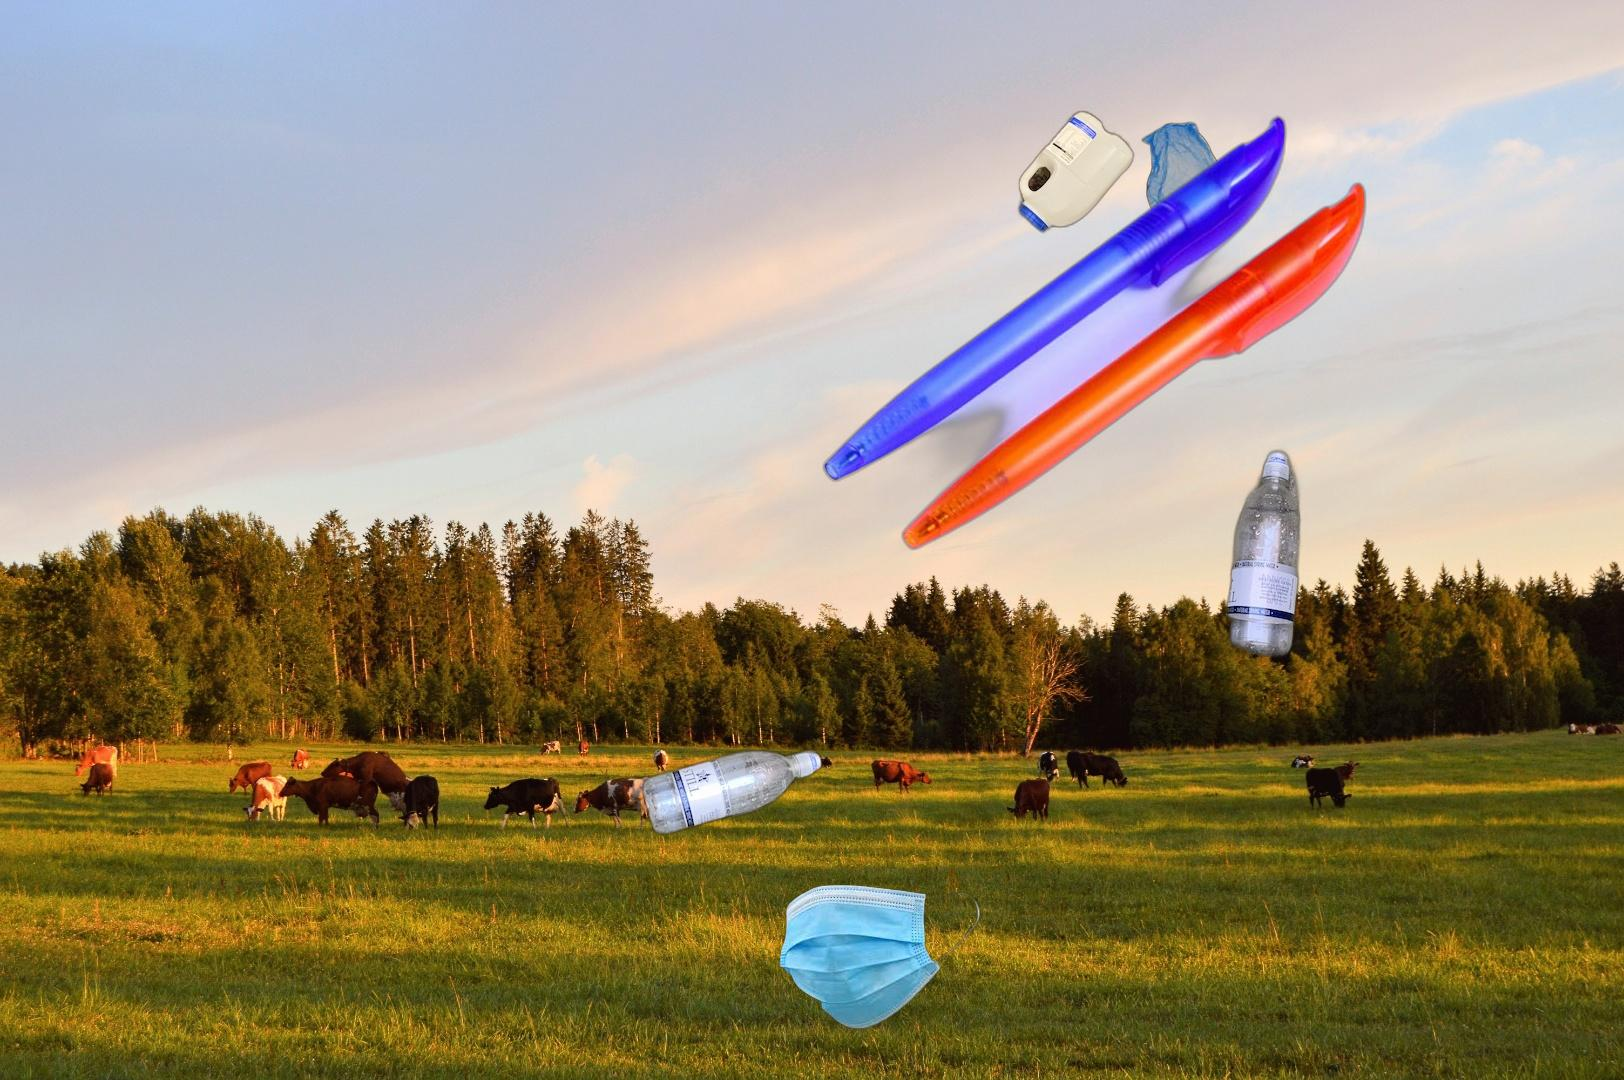penholder: (817, 111, 1370, 556)
plastic-bag: (1141, 119, 1226, 236)
plastic-bottles: (461, 744, 973, 1080), (1014, 105, 1267, 372), (1220, 445, 1305, 664), (37, 1078, 420, 1080)
trash: (777, 882, 983, 1032)
